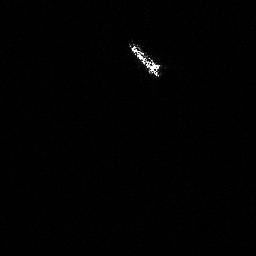ship: (125, 38, 163, 80)
